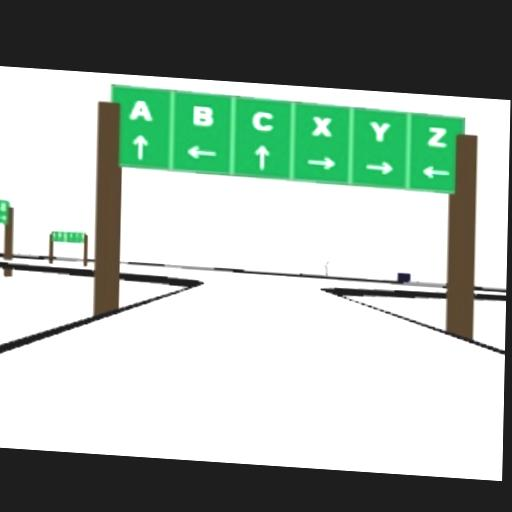A: (129, 97, 151, 120)
B: (191, 101, 213, 124)
C: (252, 109, 273, 130)
Left: (185, 143, 217, 159), (421, 163, 450, 177)
Right: (364, 158, 392, 174), (306, 155, 336, 169)
Straight: (133, 132, 147, 157), (256, 146, 270, 169)
X: (312, 113, 331, 136)
Y: (368, 119, 389, 142)
Z: (427, 124, 446, 146), (0, 199, 6, 212)
